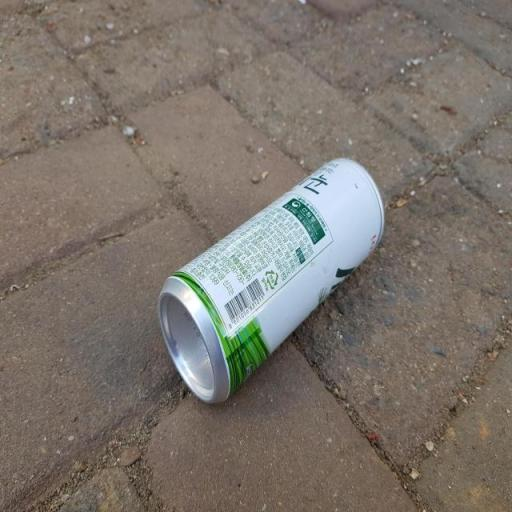metal: (129, 110, 403, 436)
